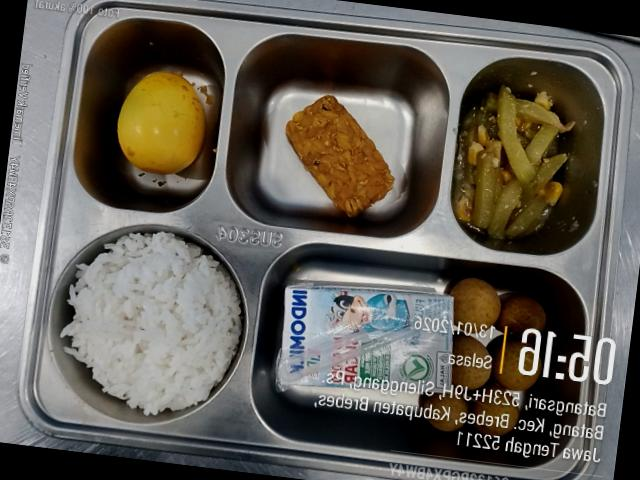buah: (422, 278, 546, 432)
nasi: (60, 232, 241, 415)
sayur: (453, 86, 574, 238)
susu: (276, 283, 453, 391)
telur: (116, 71, 204, 174)
tempe: (285, 96, 393, 217)
